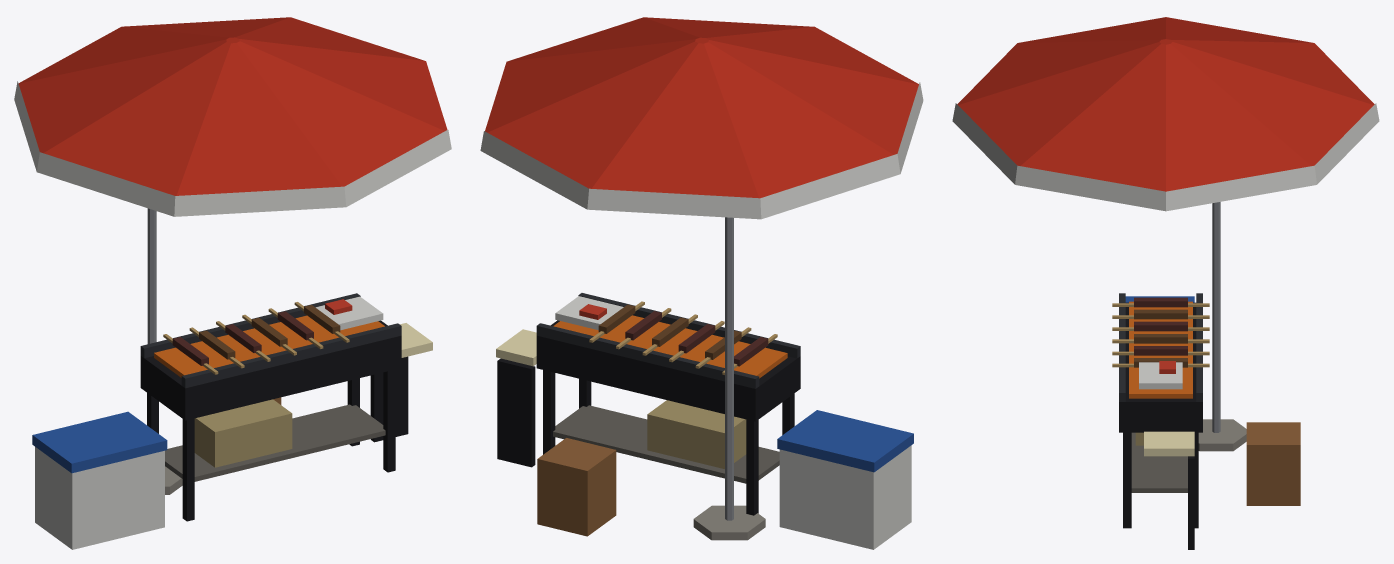
Rendered from prop_suya-grill.glb.
3 views of the same model, side by side, from view 1: azimuth 30°, elevation 25°; view 2: azimuth 150°, elevation 25°; view 3: azimuth 270°, elevation 25° (orthographic). The views are drawn at different scales.
Visible parts, largest first — view 1: body; view 2: body; view 3: body.
Part boxes in pixels (x1,y1,x2,y2): body: [14, 17, 451, 549]; body: [480, 17, 923, 549]; body: [952, 17, 1379, 549].
Bounding box in the file's own units: 2.54 × 2.77 × 2.54.
